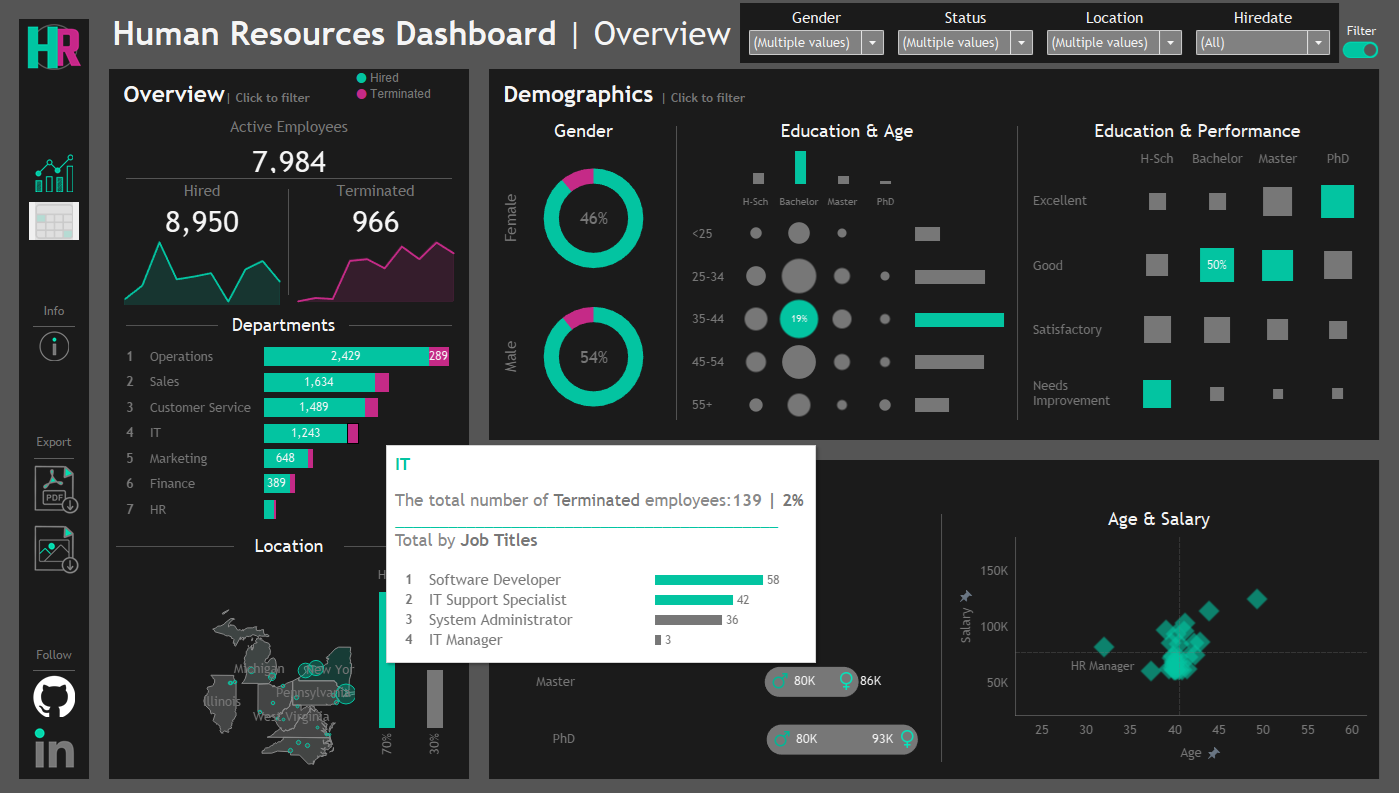

The dashboard page shown, as its layout file describes it:
{"tool":"tableau","page":{"name":"HR | Summary","canvas":[1400,800],"ordinal":0},"visuals":[{"type":"text","box":[106,6,702,41]},{"type":"blank","box":[808,6,586,41]},{"type":"blank","box":[26,26,54,374]},{"type":"text","box":[109,56,354,35]},{"type":"text","box":[472,59,916,35]},{"type":"text","box":[109,91,354,32]},{"type":"text","box":[475,97,175,29]},{"type":"blank","box":[650,97,32,279]},{"type":"text","box":[682,97,330,29]},{"type":"blank","box":[1012,97,32,279]},{"type":"text","box":[1044,97,341,29]},{"type":"worksheet","title":"Ban Active","mark":"Text","box":[109,123,354,10]},{"type":"worksheet","title":"Gender","mark":"Pie","rows":["Gender"],"cols":["Calculation_1393864114417664001","Calculation_1393864114417664001"],"box":[475,126,175,250]},{"type":"worksheet","title":"Education Levels","mark":"Bar","rows":["Calculation_1589207748218527744"],"cols":["Education Level"],"box":[682,126,330,100]},{"type":"worksheet","title":"Education vs Performance","mark":"Square","rows":["Performance Rating"],"cols":["Education Level"],"box":[1044,126,341,250]},{"type":"blank","box":[109,133,354,32]},{"type":"text","box":[110,166,124,24]},{"type":"blank","box":[234,166,24,160]},{"type":"text","box":[258,166,204,24]},{"type":"worksheet","title":"Ban Hired","mark":"Text","box":[110,190,124,25]},{"type":"worksheet","title":"Ban Terminated","mark":"Text","box":[258,190,204,24]},{"type":"worksheet","title":"Terminated By Year","mark":"Line","rows":["Calculation_1589207748218982401","Calculation_1589207748218982401"],"cols":["Termdate"],"box":[258,214,204,112]},{"type":"worksheet","title":"Hired By Year","mark":"Line","rows":["Calculation_1589207748218527744","Calculation_1589207748218527744"],"cols":["Hiredate"],"box":[110,215,124,111]},{"type":"worksheet","title":"Age vs Education","mark":"Circle","rows":["Calculation_1393864114420736004"],"cols":["Education Level"],"box":[682,226,229,150]},{"type":"worksheet","title":"Age grp Employees","mark":"Bar","rows":["Calculation_1393864114420736004"],"cols":["Calculation_1589207748218527744"],"box":[911,226,101,150]},{"type":"blank","box":[109,327,47,32]},{"type":"text","box":[156,327,265,32]},{"type":"blank","box":[421,327,42,32]},{"type":"worksheet","title":"Departments","mark":"Bar","rows":["Calculation_1589207748225589252","Department"],"cols":["Calculation_1589207748218527744"],"box":[109,359,354,186]},{"type":"blank","box":[26,400,54,374]},{"type":"text","box":[472,411,916,35]},{"type":"text","box":[475,449,435,29]},{"type":"blank","box":[910,449,56,246]},{"type":"text","box":[966,449,419,29]},{"type":"worksheet","title":"Gender vs Education Level","mark":"Square","rows":["Education Level"],"cols":["Salary","Salary"],"box":[475,478,435,217]},{"type":"worksheet","title":"Age vs Salary","mark":"Shape","rows":["Salary"],"cols":["Calculation_1393864114419888131"],"box":[966,478,419,217]},{"type":"blank","box":[109,545,120.7,30]},{"type":"text","box":[229.7,545,112.7,30]},{"type":"blank","box":[342.3,545,120.7,30]},{"type":"worksheet","title":"Map States","mark":"Automatic","box":[109,575,188.5,181]},{"type":"worksheet","title":"Location","mark":"Bar","rows":["Calculation_1589207748218527744"],"cols":["Calculation_1589207748228120581","Calculation1"],"box":[297.5,575,165.5,181]}]}

Visuals, with their boxes in screenshot pixels (x1, y1, x2, y2), scaled from the page's 1400x800 canvas onto the 1399x793 screenshot:
text: [106,6,807,47]
blank: [807,6,1393,47]
blank: [26,26,80,396]
text: [109,56,463,90]
text: [472,58,1387,93]
text: [109,90,463,122]
text: [475,96,650,125]
blank: [650,96,682,373]
text: [682,96,1011,125]
blank: [1011,96,1043,373]
text: [1043,96,1384,125]
"Ban Active" worksheet (Text marks): [109,122,463,132]
"Gender" worksheet (Pie marks): [475,125,650,373]
"Education Levels" worksheet (Bar marks): [682,125,1011,224]
"Education vs Performance" worksheet (Square marks): [1043,125,1384,373]
blank: [109,132,463,164]
text: [110,165,234,188]
blank: [234,165,258,323]
text: [258,165,462,188]
"Ban Hired" worksheet (Text marks): [110,188,234,213]
"Ban Terminated" worksheet (Text marks): [258,188,462,212]
"Terminated By Year" worksheet (Line marks): [258,212,462,323]
"Hired By Year" worksheet (Line marks): [110,213,234,323]
"Age vs Education" worksheet (Circle marks): [682,224,910,373]
"Age grp Employees" worksheet (Bar marks): [910,224,1011,373]
blank: [109,324,156,356]
text: [156,324,421,356]
blank: [421,324,463,356]
"Departments" worksheet (Bar marks): [109,356,463,540]
blank: [26,396,80,767]
text: [472,407,1387,442]
text: [475,445,909,474]
blank: [909,445,965,689]
text: [965,445,1384,474]
"Gender vs Education Level" worksheet (Square marks): [475,474,909,689]
"Age vs Salary" worksheet (Shape marks): [965,474,1384,689]
blank: [109,540,230,570]
text: [230,540,342,570]
blank: [342,540,463,570]
"Map States" worksheet: [109,570,297,749]
"Location" worksheet (Bar marks): [297,570,463,749]
